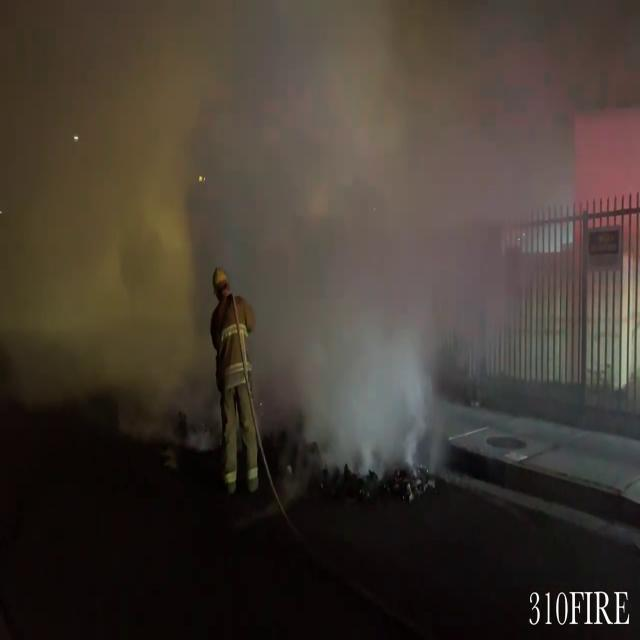Smoke: (0, 0, 620, 459)
